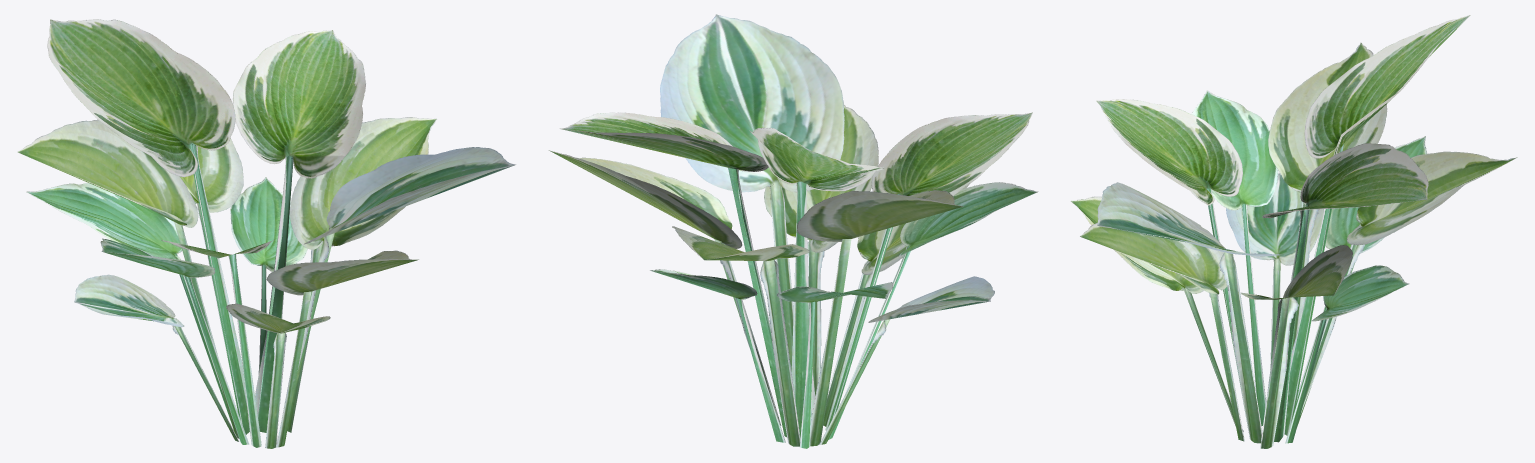
File: plant_small_wg_00J_wild.fbx
3 renders of one model, left to right at view 1: azimuth 30°, elevation 25°; view 2: azimuth 150°, elevation 25°; view 3: azimuth 270°, elevation 25°, orthographic. The views are drawn at different scales.
Parts seen in each view (by area): view 1: plant_small_wg_00J_wild; view 2: plant_small_wg_00J_wild; view 3: plant_small_wg_00J_wild.
Boxes of the visible parts, x1=… form: plant_small_wg_00J_wild: x1=17, y1=19, x2=515, y2=448; plant_small_wg_00J_wild: x1=548, y1=14, x2=1038, y2=448; plant_small_wg_00J_wild: x1=1070, y1=15, x2=1517, y2=448.
Bounding box in the file's own units: 64.89 × 56.12 × 62.1.
